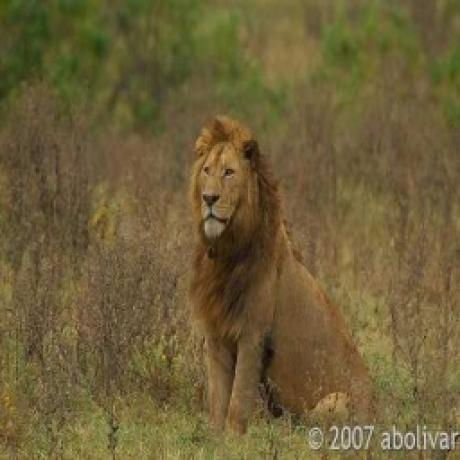Lion: (187, 115, 386, 416)
